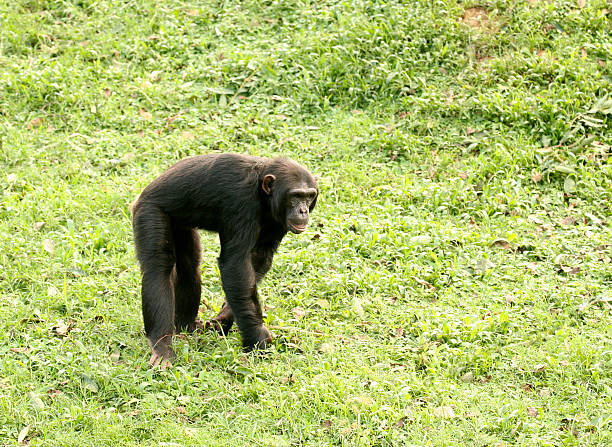chimpanzee: (250, 143, 322, 246)
